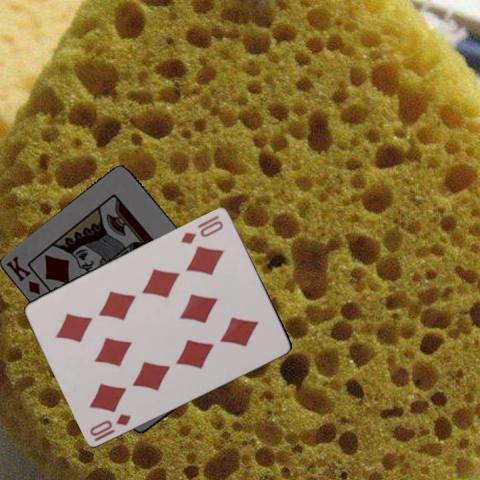10d: (87, 410, 133, 443), (178, 218, 226, 246)
Kd: (3, 253, 43, 296)
